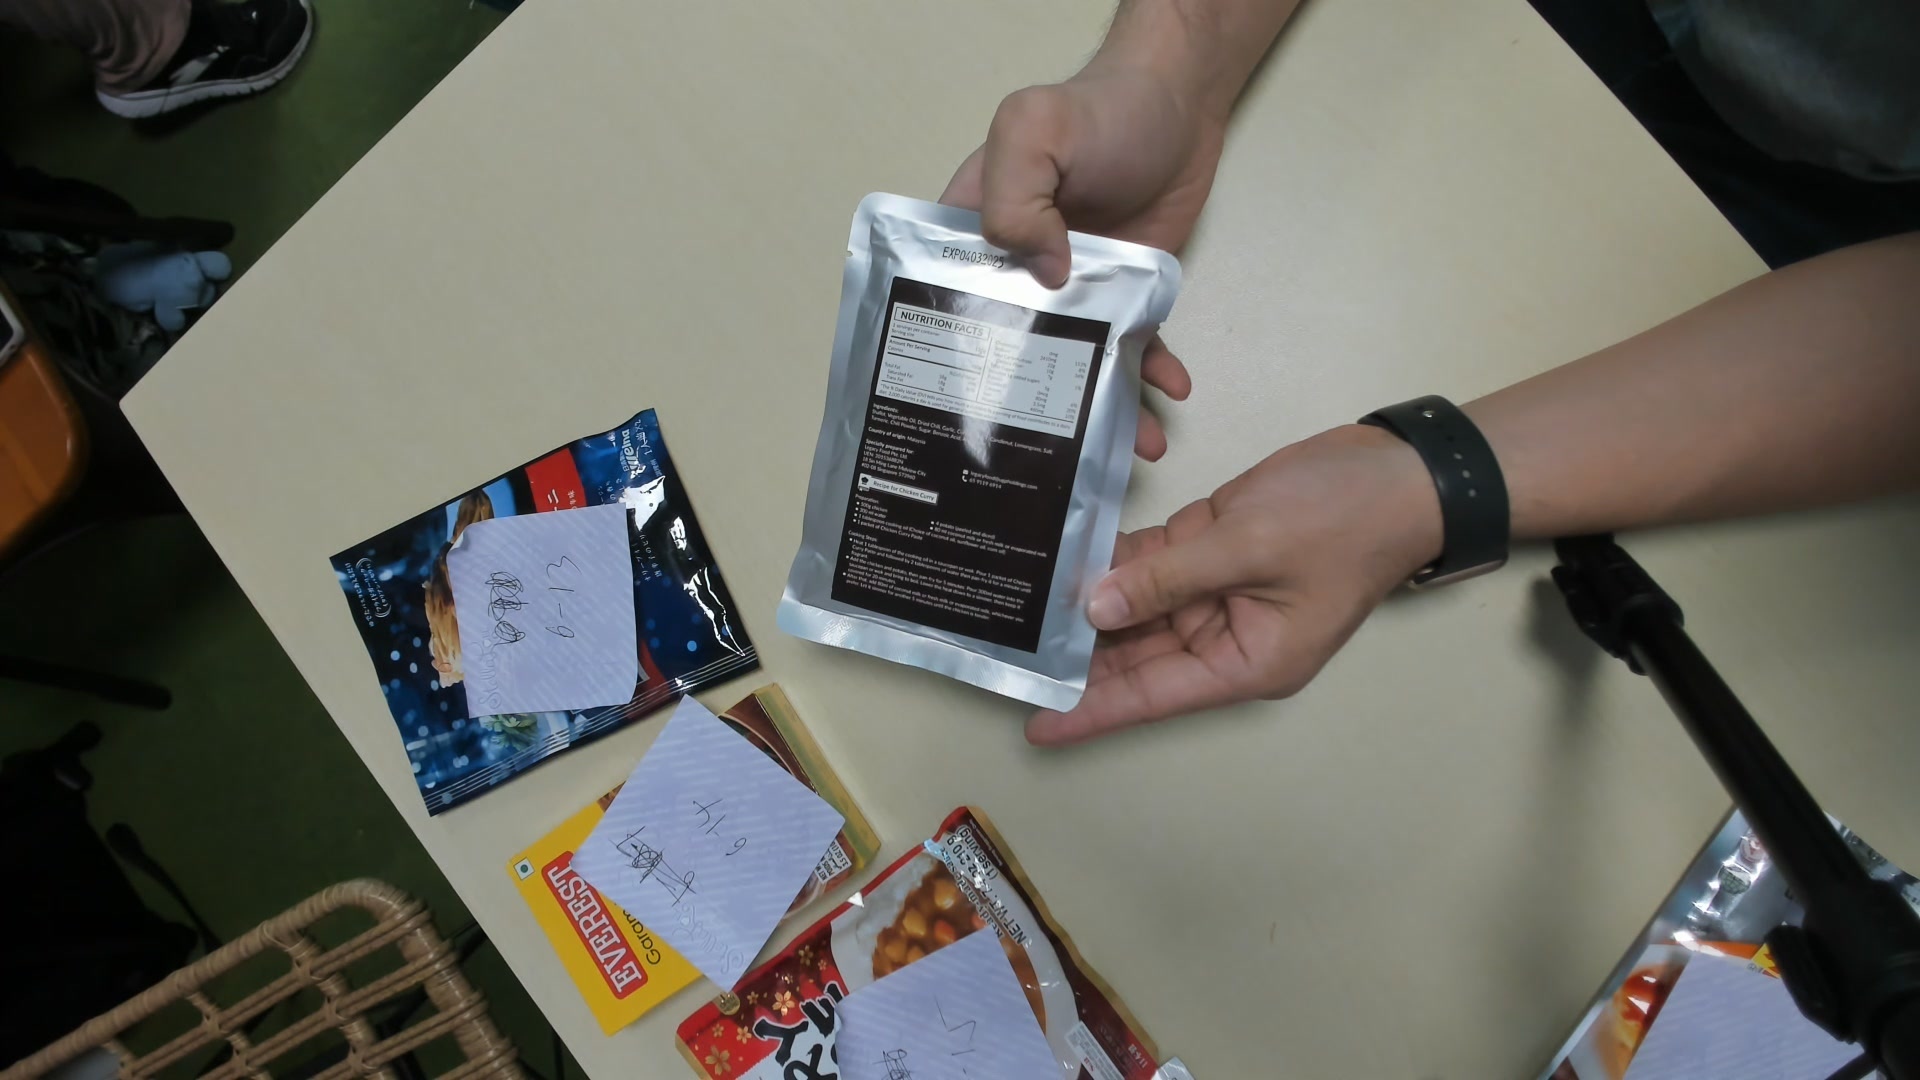CurryPastePowderSauce_100-199g_Halal_NonHealthy: (777, 189, 1182, 715)
